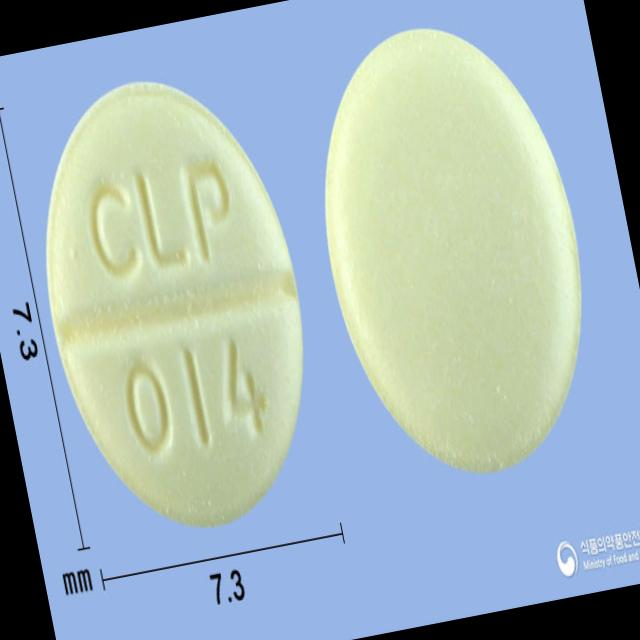Immuthera: (9, 51, 342, 547)
